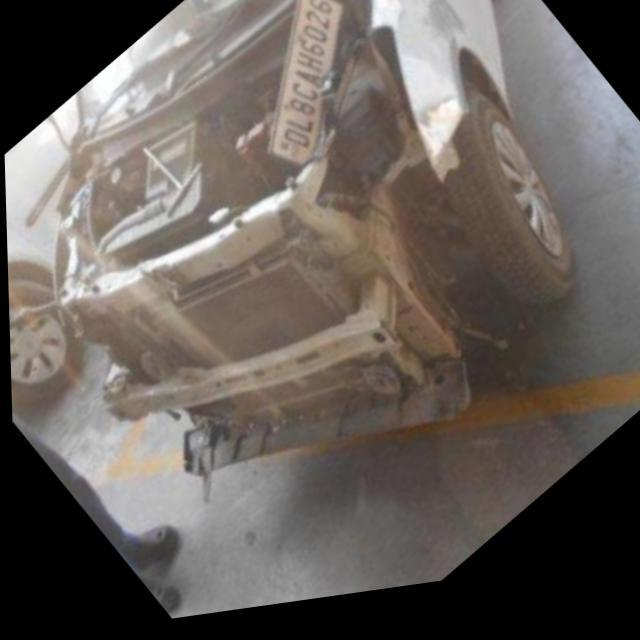no part: (36, 31, 484, 485)
